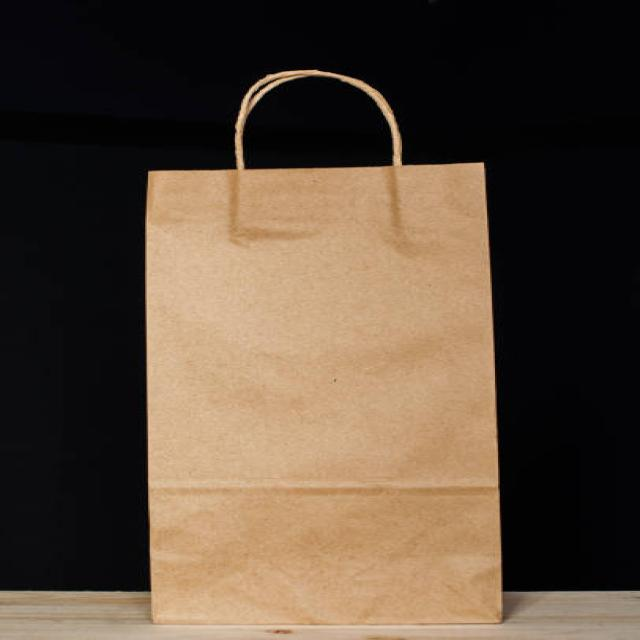electronic: (143, 70, 503, 624)
